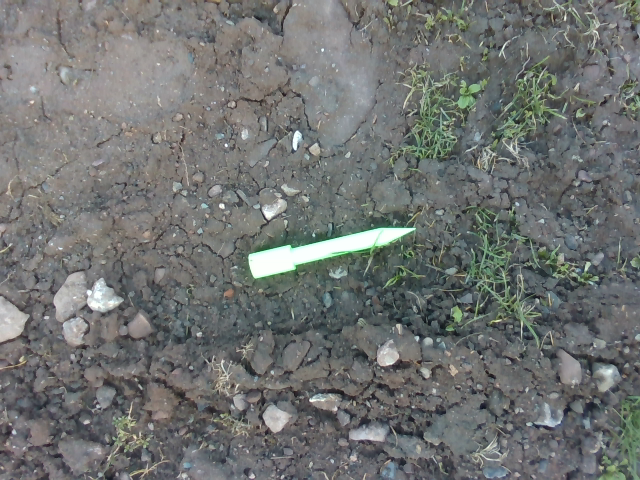Probe: (246, 223, 420, 282)
